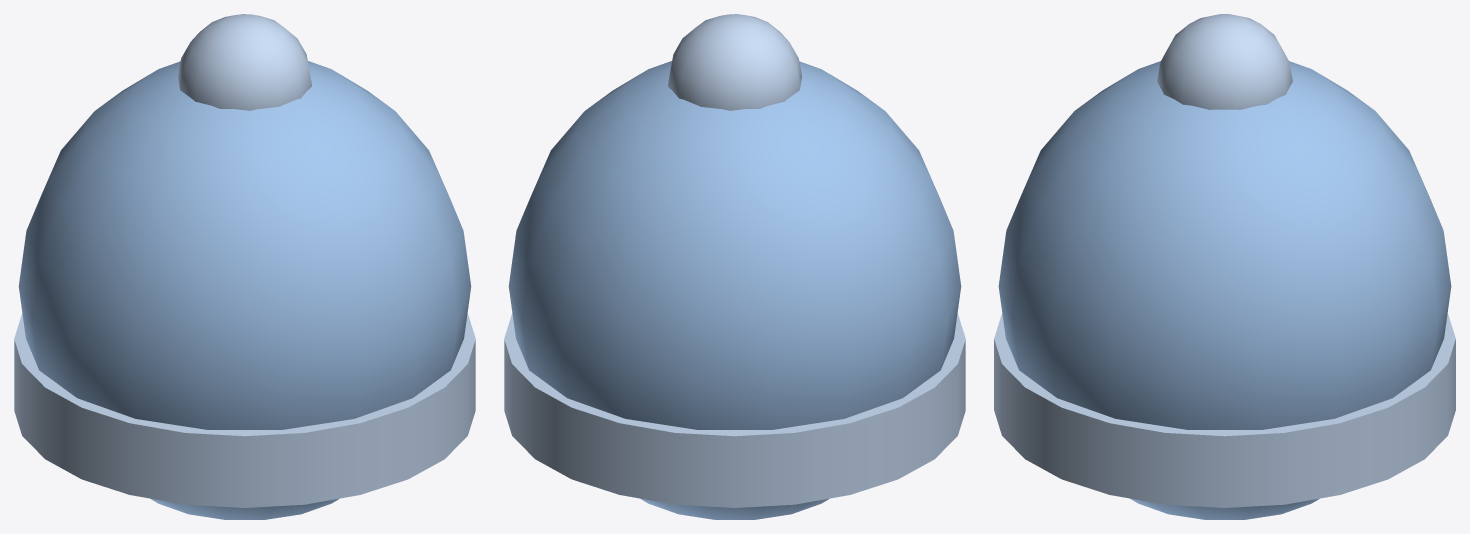
The model's file is VM-CAB-SH36388951.glb.
3 views of the same model, side by side, from view 1: azimuth 30°, elevation 25°; view 2: azimuth 150°, elevation 25°; view 3: azimuth 270°, elevation 25° (orthographic).
Visible parts, largest first — view 1: Gorra Camuflaje Tonal Oglethorpe; view 2: Gorra Camuflaje Tonal Oglethorpe; view 3: Gorra Camuflaje Tonal Oglethorpe.
Boxes of the visible parts, <box> form: Gorra Camuflaje Tonal Oglethorpe: <box>14,14,475,519</box>; Gorra Camuflaje Tonal Oglethorpe: <box>504,14,965,519</box>; Gorra Camuflaje Tonal Oglethorpe: <box>994,14,1455,519</box>.
Bounding box in the file's own units: 0.2074 × 0.2389 × 0.2074.
